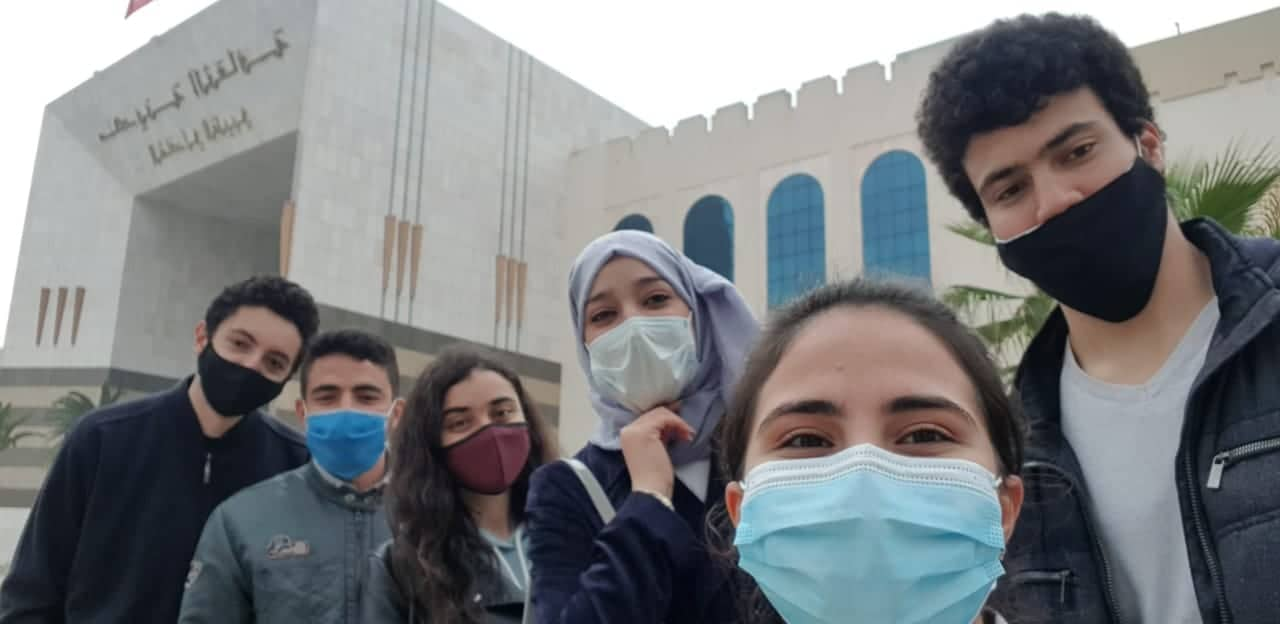mask_weared_incorrect: (979, 118, 1148, 294)
